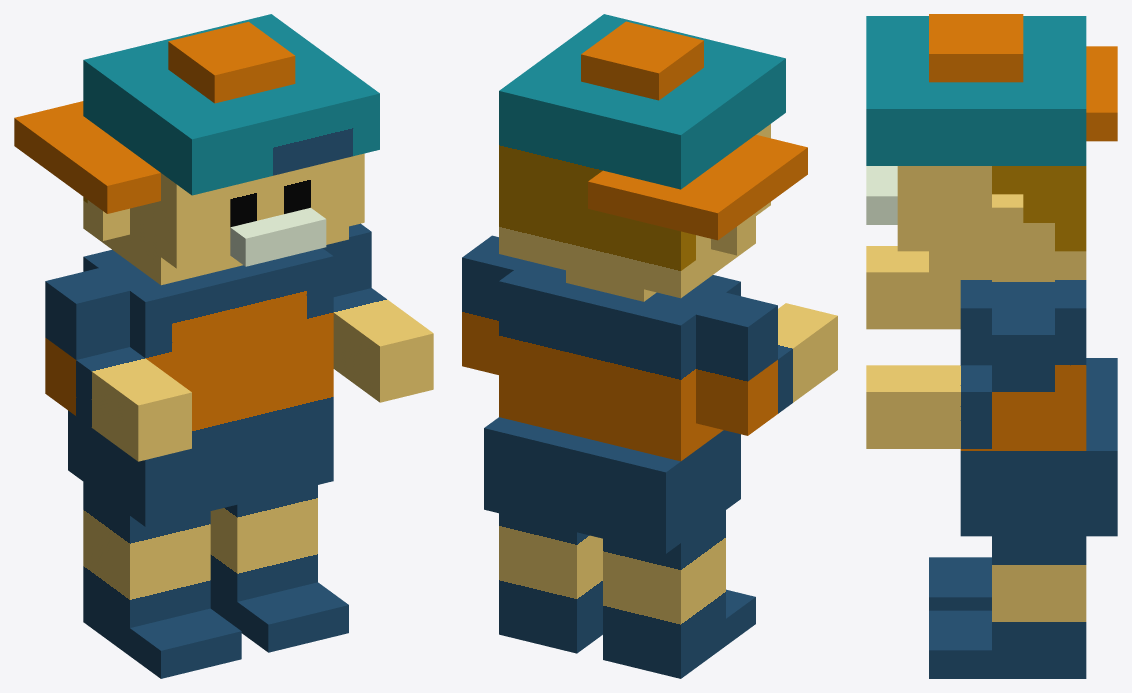
File: Pizza_Man_Free.dae
3 renders of one model, left to right at view 1: azimuth 30°, elevation 25°; view 2: azimuth 150°, elevation 25°; view 3: azimuth 270°, elevation 25°, orthographic. The views are drawn at different scales.
Visible parts, largest first — view 1: pizza_men_7; view 2: pizza_men_7; view 3: pizza_men_7.
Boxes of the visible parts, left/top/right/bottom form: pizza_men_7: left=14, top=14, right=433, bottom=678; pizza_men_7: left=462, top=14, right=837, bottom=678; pizza_men_7: left=866, top=14, right=1117, bottom=678.
Bounding box in the file's own units: 11 × 21 × 8.
